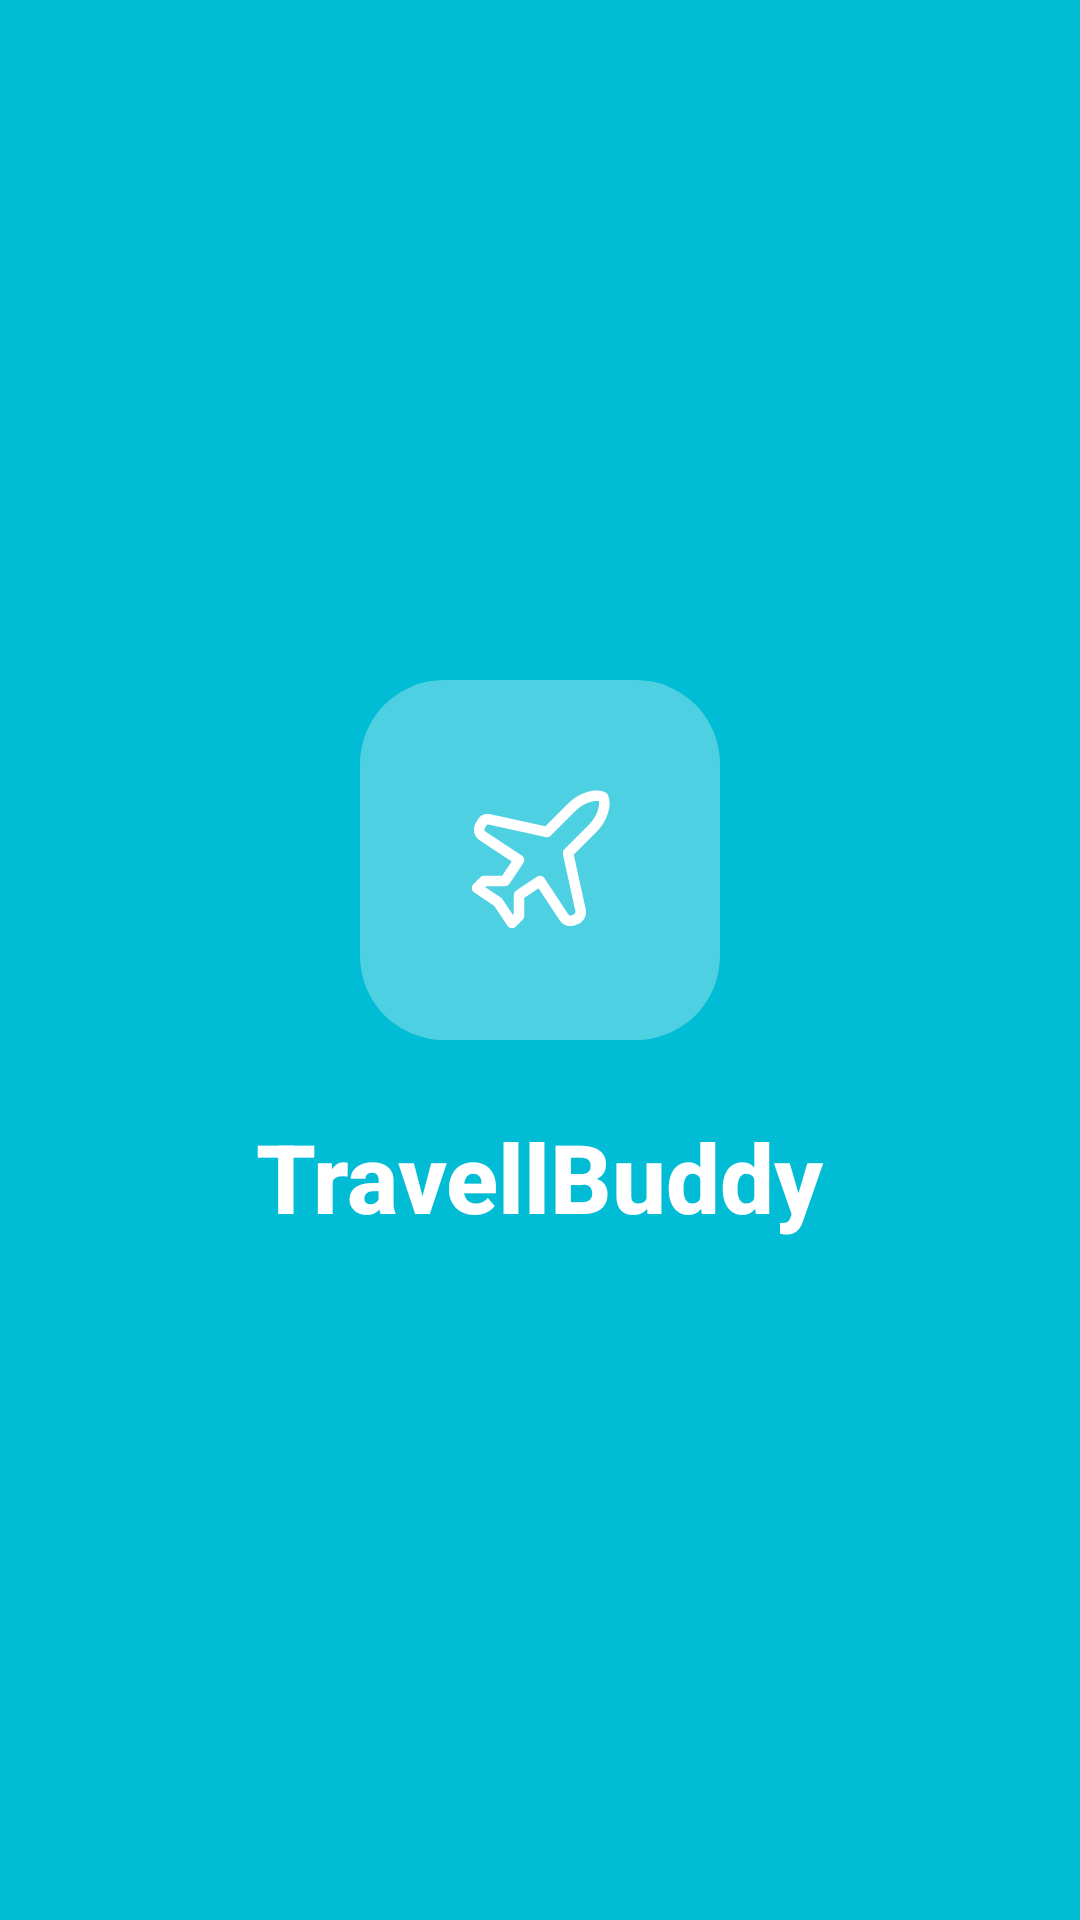

Icon bounding boxes for this 1080×1920 phone screenshot, format (x1, y1, x2, y2):
Лого на TravellBuddy: (471, 790, 610, 929)
